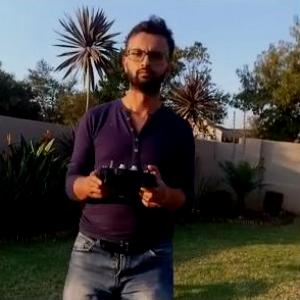follow: (61, 11, 196, 299)
